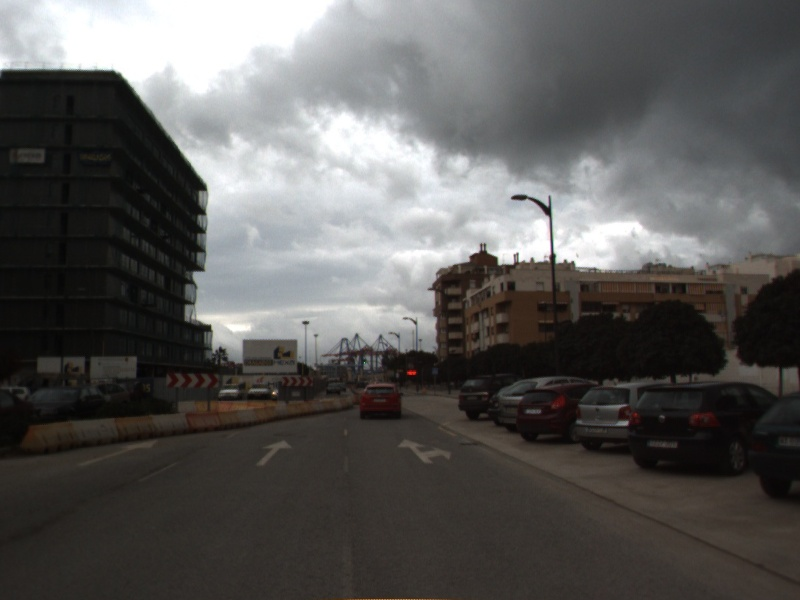STRAIGHT: (75, 437, 161, 468), (254, 438, 294, 468)
STRAIGHT_RIGHT: (396, 437, 453, 466)
